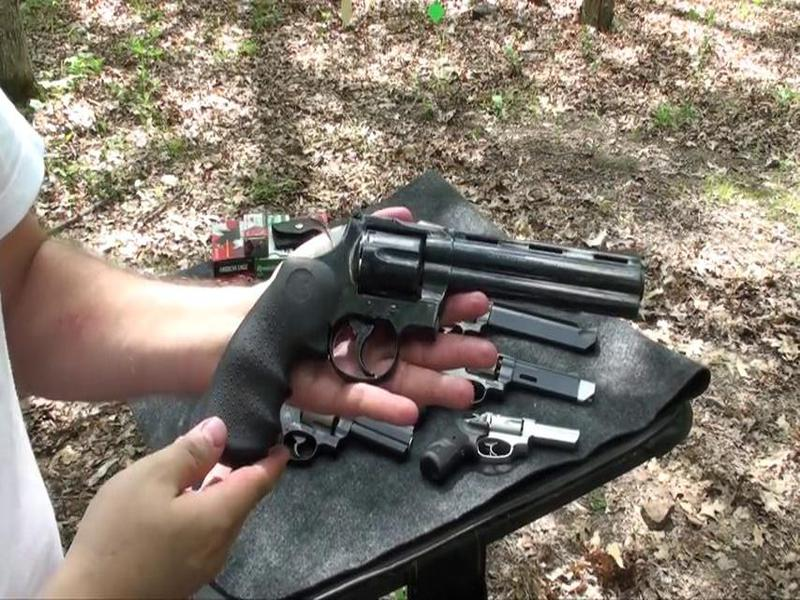Revolver: (210, 204, 654, 437)
